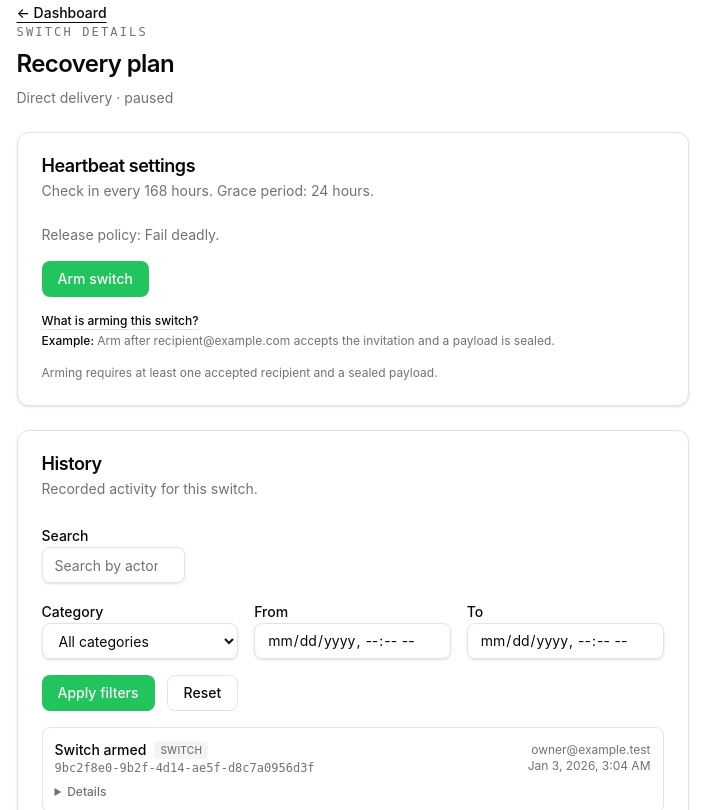
Test case: SwitchHistory › shows owner-visible sanitized details without administrator export controls
The width and height of the screenshot is (706, 810).
Expected: the text "owner@example.test" is shown, [528,742,650,758]
Expected: the text "\"source\"" is not shown
Click the heading "Details": (87, 792) [67,784,106,799]
(page scrolled)
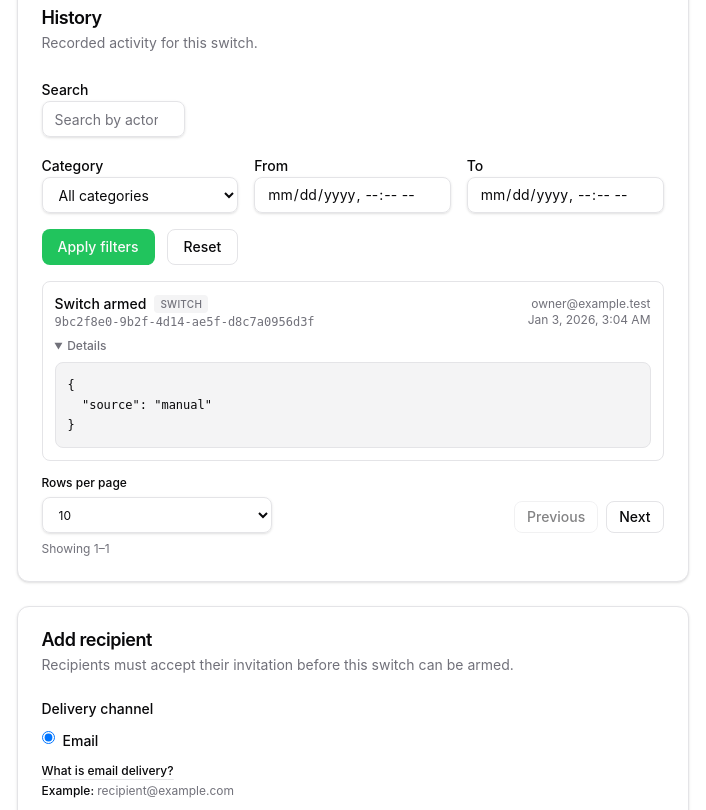
Now the text "{ \"source\": \"manual\" }" is shown, box [54,362,650,448]
